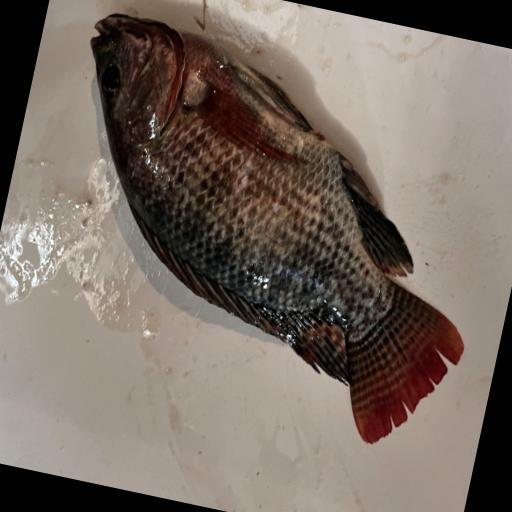Tilapia: (19, 6, 512, 459)
